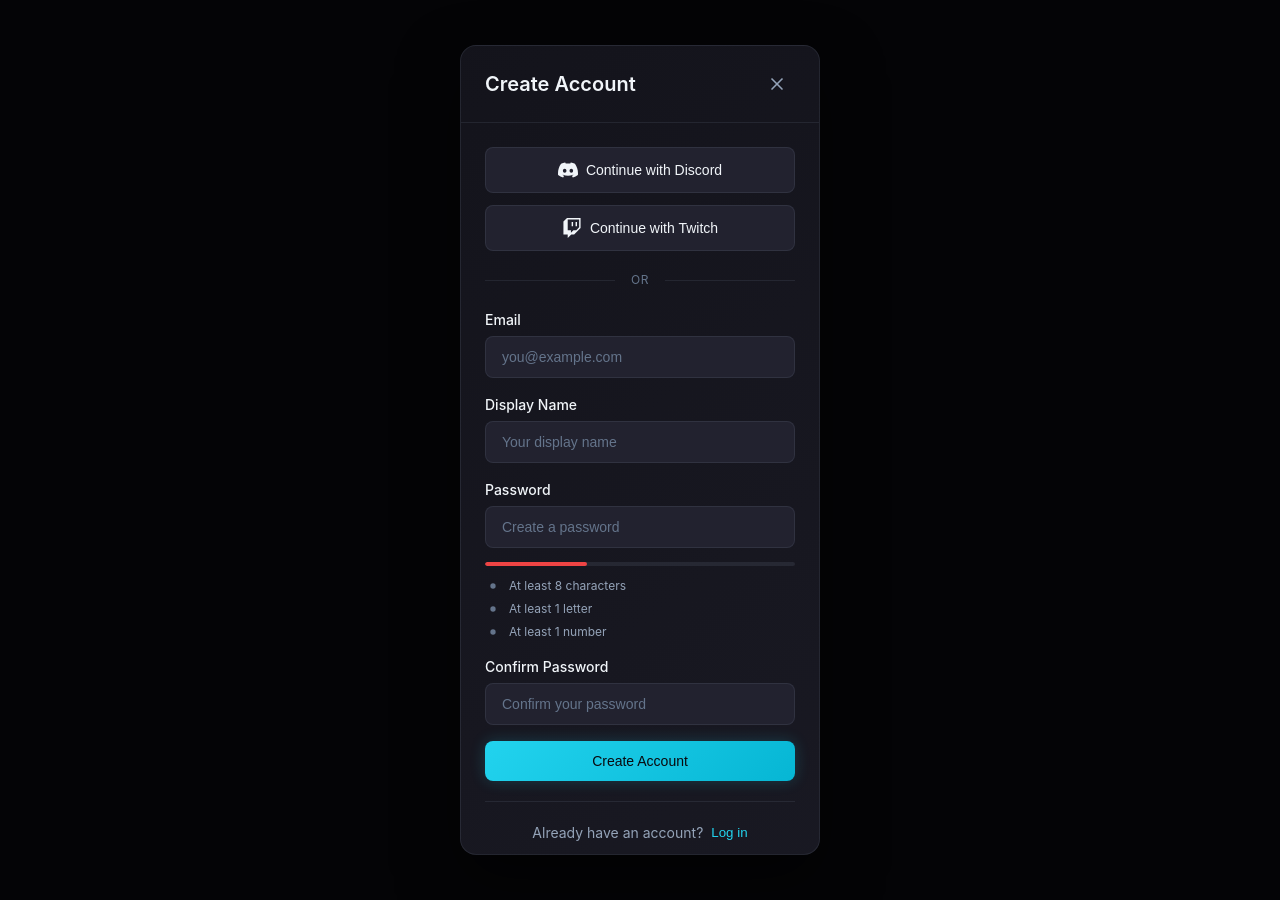
Test: SignupModal Component › should display error message when signup fails
This screenshot has width=1280, height=900.
Fill in valid form data
Type "existing@example.com" into the field with test id "signup-email-input" at [640, 357], box 485,336 -> 795,378
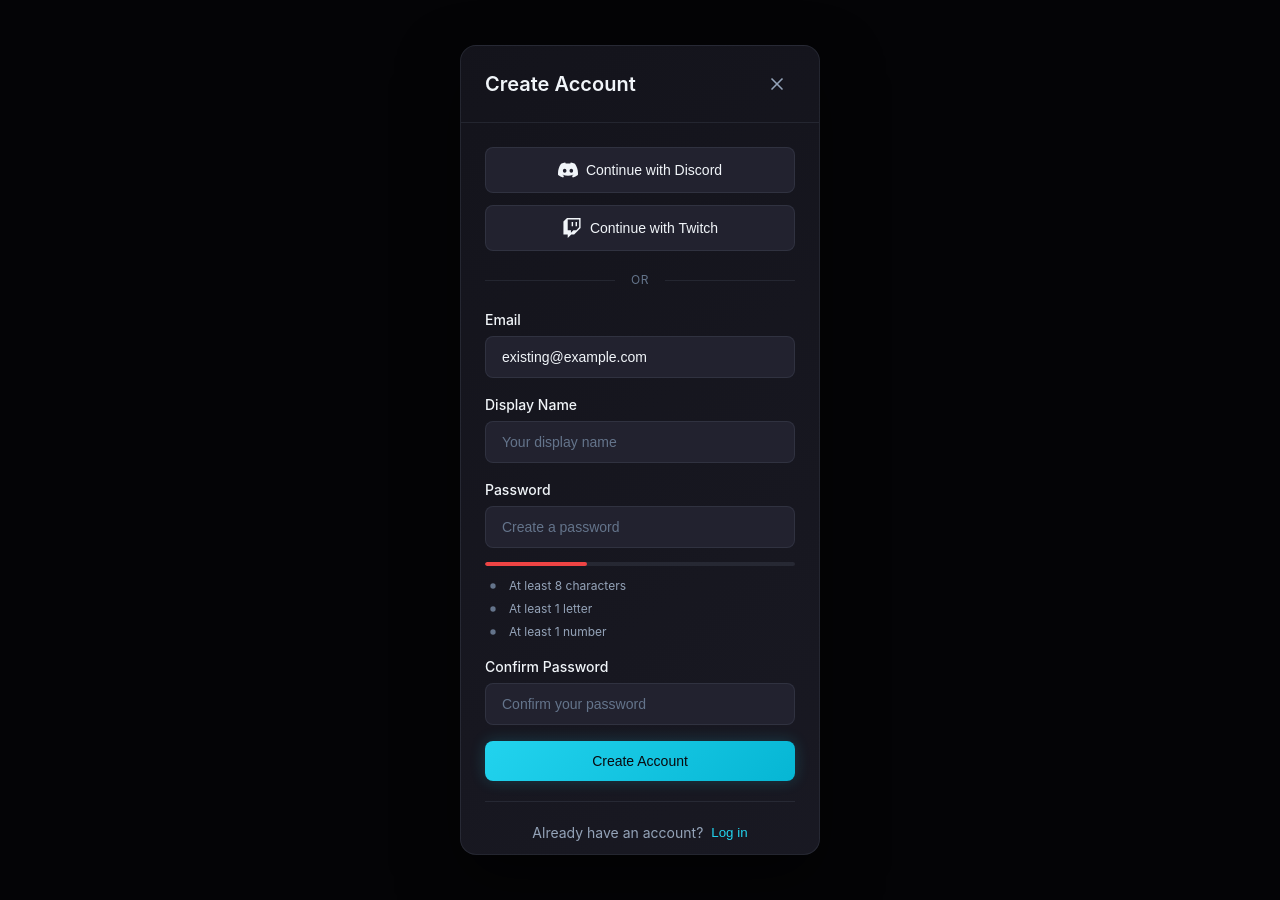
Type "Test User" into the field with test id "signup-displayname-input" at [640, 442], box 485,421 -> 795,463
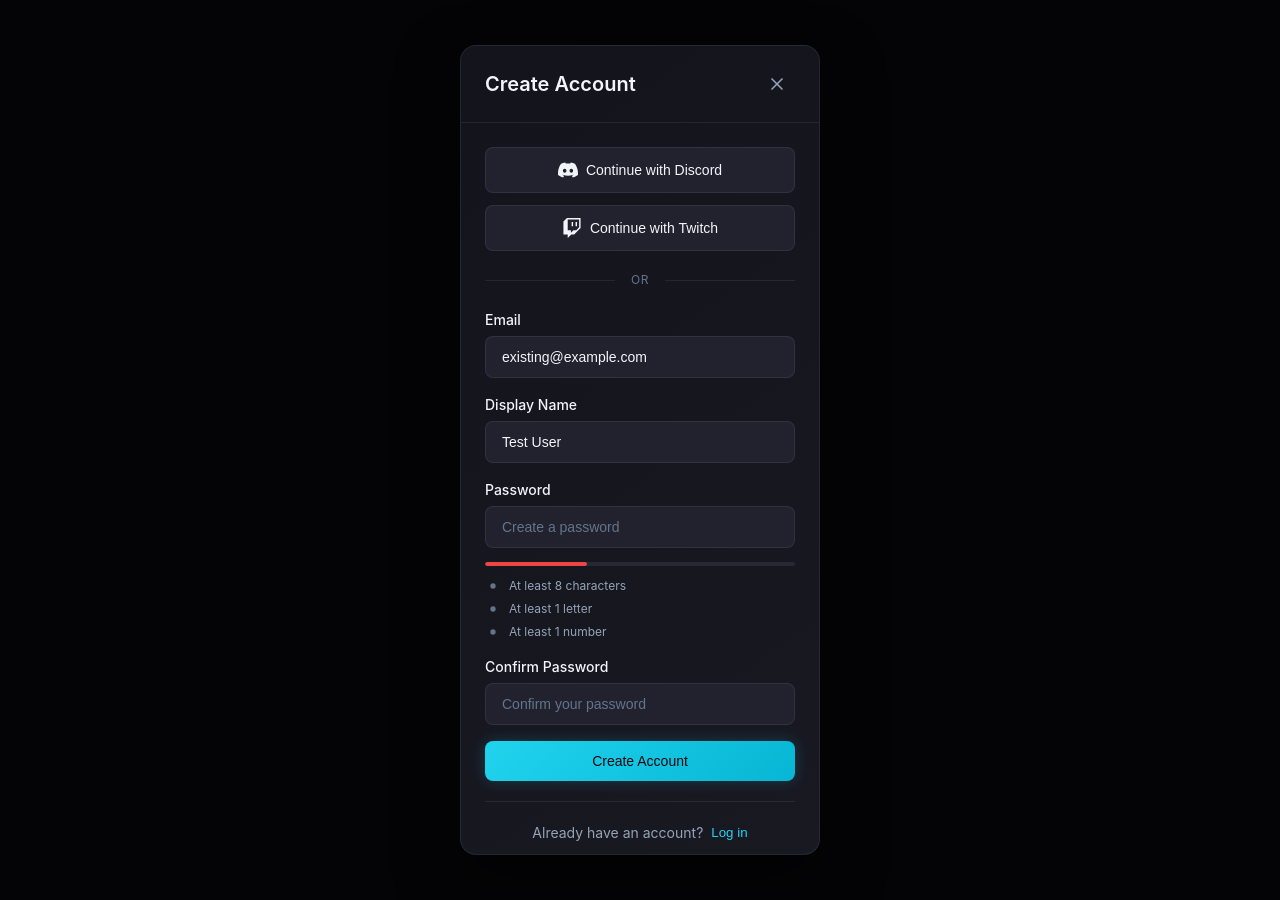
Type "Password123!" into the password field with test id "signup-password-input" at [640, 527], box 485,506 -> 795,548
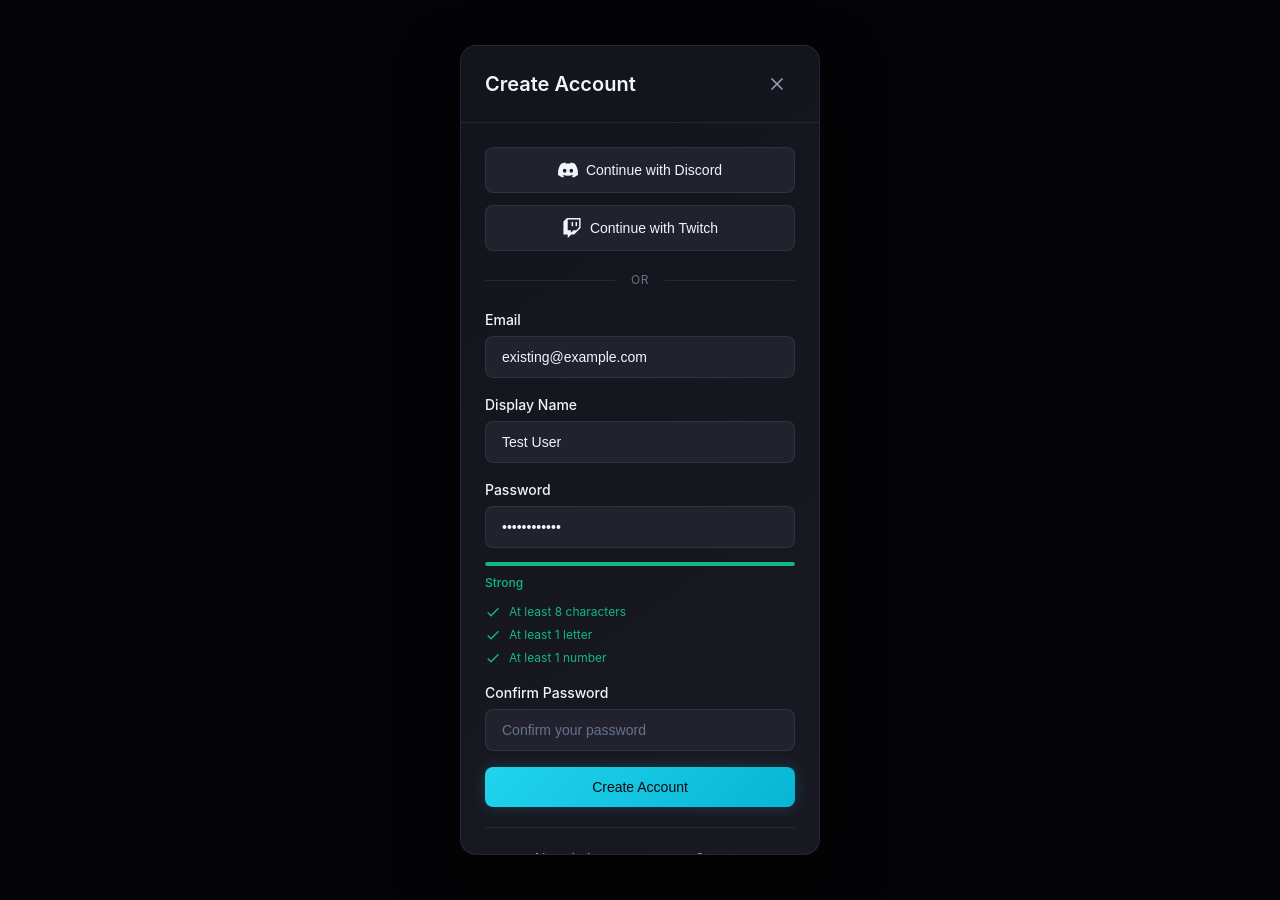
Type "Password123!" into the password field with test id "signup-confirm-password-input" at [640, 730], box 485,709 -> 795,751
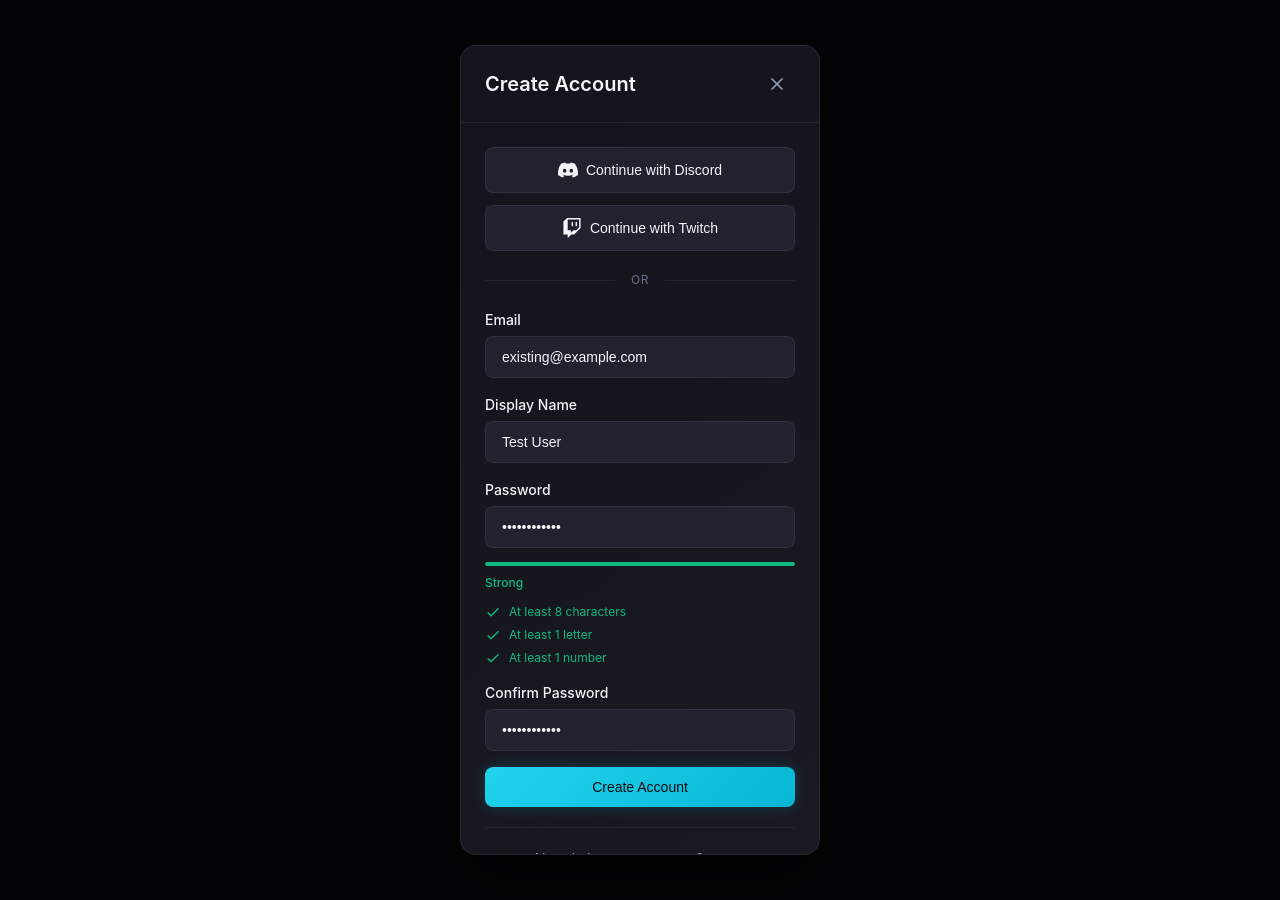
Submit form
Click the button with test id "signup-submit-button" at [640, 787], box 485,767 -> 795,807
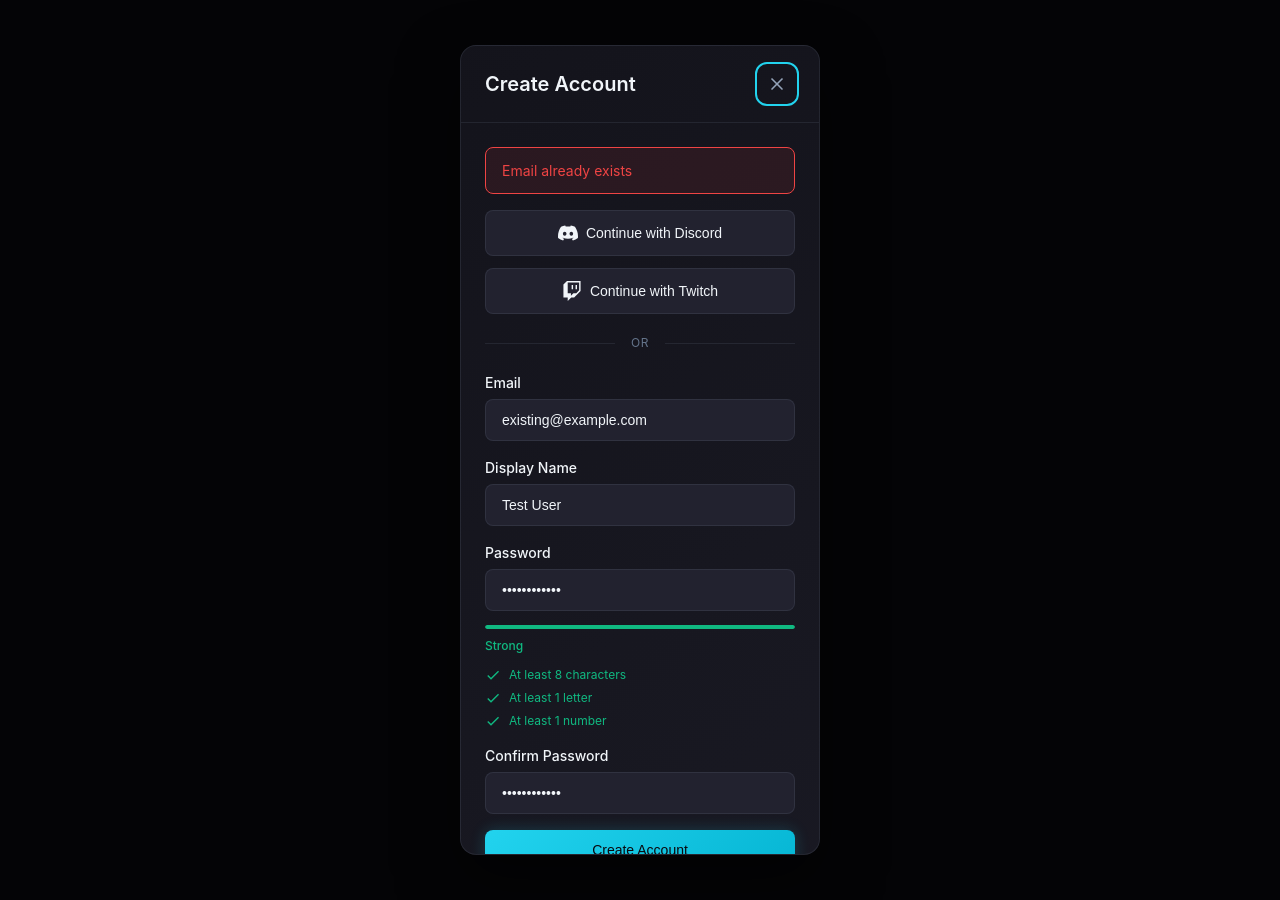
Expected: the text "Email already exists" is shown, 485,147 -> 795,194
